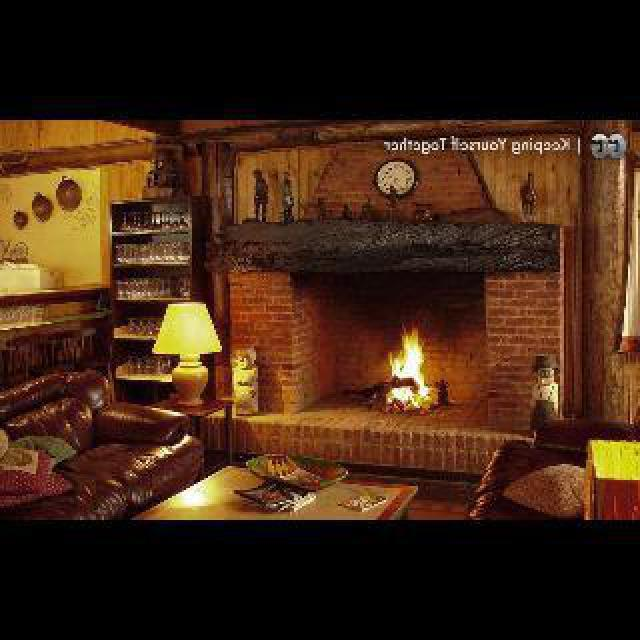fire: (382, 318, 434, 410)
